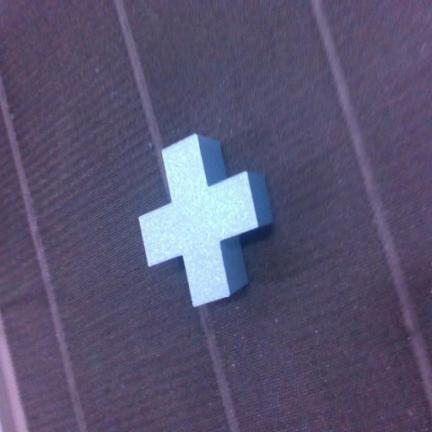cross: (140, 135, 272, 306)
